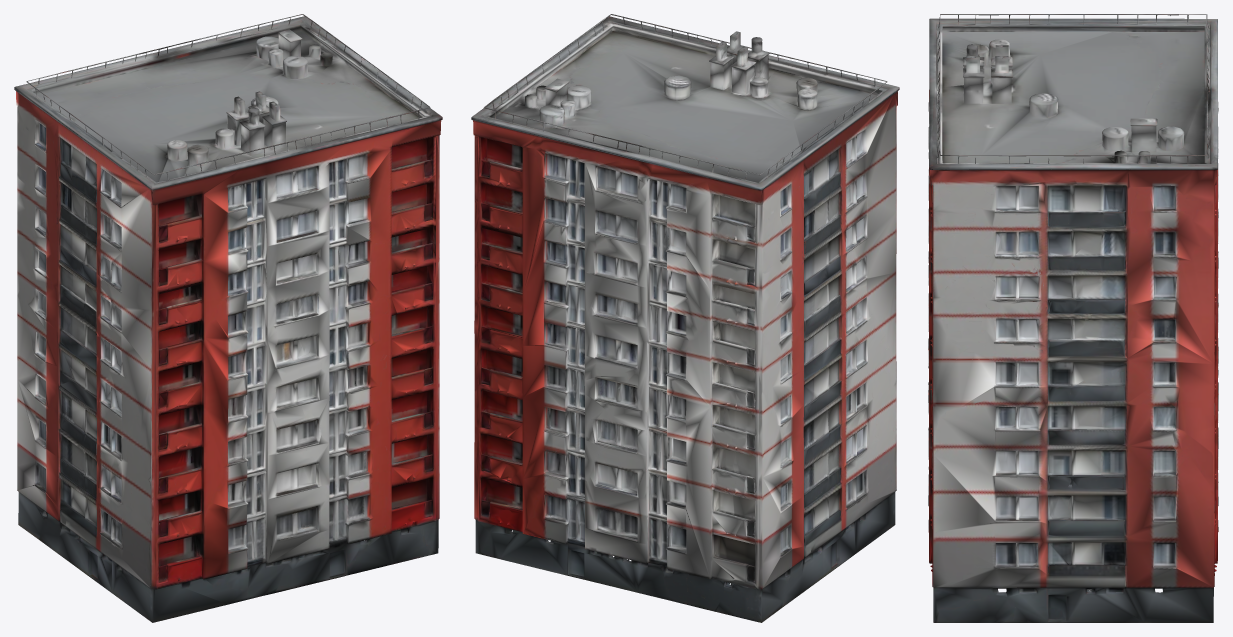
Rendered from tour_emile_kahn.glb.
3 renders of one model, left to right at view 1: azimuth 30°, elevation 25°; view 2: azimuth 150°, elevation 25°; view 3: azimuth 270°, elevation 25°, orthographic. The views are drawn at different scales.
Visible parts, largest first — view 1: node_0; view 2: node_0; view 3: node_0.
Boxes of the visible parts, <box> form: node_0: <box>14,14,442,622</box>; node_0: <box>471,14,899,622</box>; node_0: <box>928,14,1218,622</box>.
Size of the model in its own units: 0.6009 by 0.9289 by 0.4961.
Materials: 1 (1 with a texture image).
